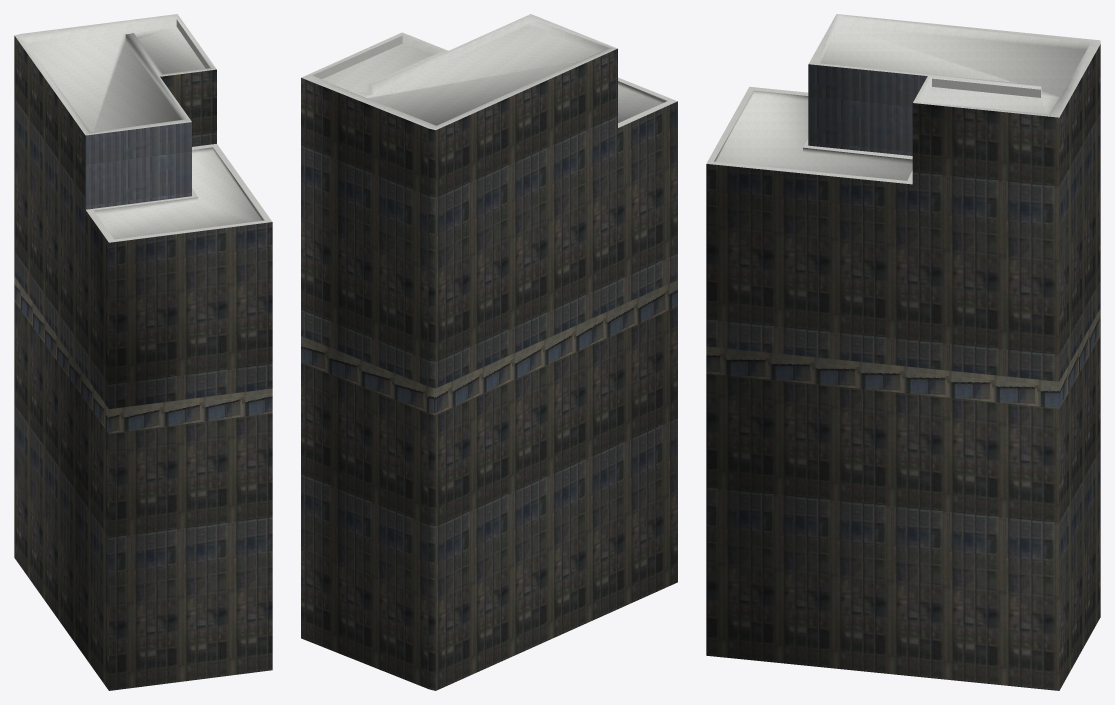
The model's file is StG_building.dae.
The picture shows the model from 3 angles, left to right: view 1: azimuth 30°, elevation 25°; view 2: azimuth 150°, elevation 25°; view 3: azimuth 270°, elevation 25°; orthographic projection. The views are drawn at different scales.
Parts seen in each view (by area): view 1: _Beige_1, Groundcover_Sand_Wind, _Brown_, _Black_, FrontColor; view 2: _Beige_1, Groundcover_Sand_Wind, _Black_, FrontColor; view 3: _Beige_1, Groundcover_Sand_Wind, _Black_, _Brown_, FrontColor.
Boxes of the visible parts, x1=… form: _Beige_1: x1=14, y1=36, x2=272, y2=690; Groundcover_Sand_Wind: x1=14, y1=14, x2=264, y2=239; _Brown_: x1=85, y1=122, x2=191, y2=209; _Black_: x1=14, y1=276, x2=272, y2=433; FrontColor: x1=86, y1=19, x2=272, y2=242; _Beige_1: x1=301, y1=48, x2=677, y2=690; Groundcover_Sand_Wind: x1=301, y1=14, x2=667, y2=130; _Black_: x1=301, y1=280, x2=677, y2=414; FrontColor: x1=313, y1=35, x2=677, y2=127; _Beige_1: x1=706, y1=44, x2=1100, y2=690; Groundcover_Sand_Wind: x1=714, y1=14, x2=1100, y2=180; _Black_: x1=706, y1=308, x2=1100, y2=408; _Brown_: x1=808, y1=64, x2=927, y2=155; FrontColor: x1=706, y1=78, x2=1040, y2=184.
Size of the model in its own units: 23.05 by 34.2 by 54.85.
Materials: 4 (4 with a texture image).
